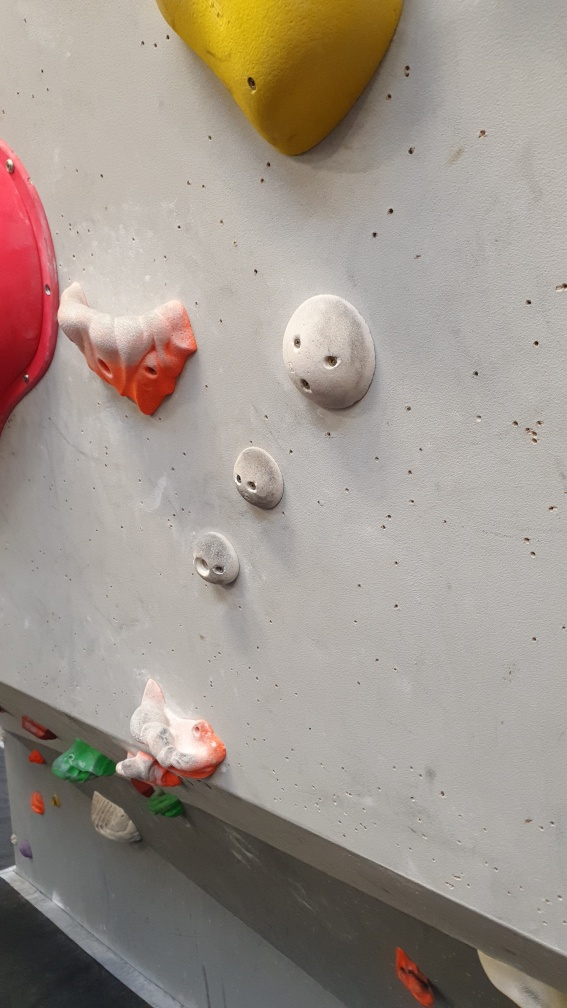Jug: (53, 276, 202, 419), (127, 679, 229, 785)
Sloper: (281, 292, 381, 413), (234, 441, 289, 514), (189, 529, 244, 587)
